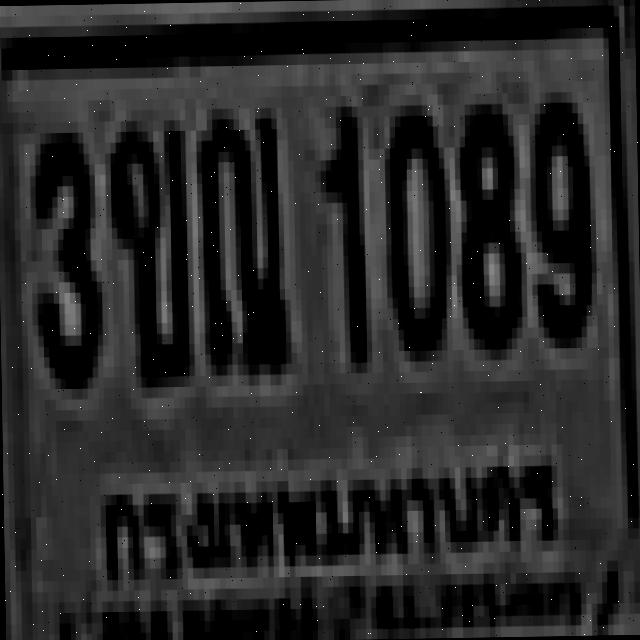0: (384, 94, 447, 351)
1: (319, 95, 361, 362)
11KhorKhai: (104, 109, 184, 377)
28NorNen: (192, 97, 284, 365)
3: (28, 122, 98, 378)
8: (453, 92, 516, 338)
9: (526, 81, 589, 338)
Bangkok: (91, 442, 568, 576)
